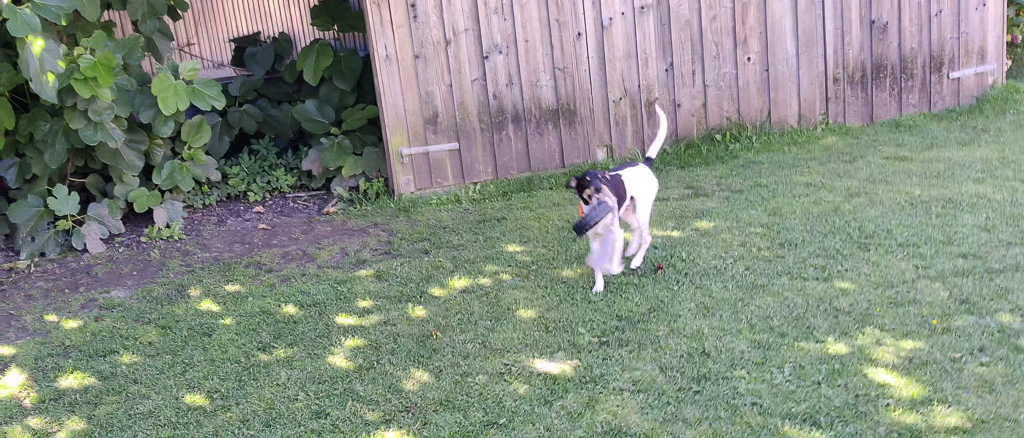Dog: (560, 101, 704, 300)
